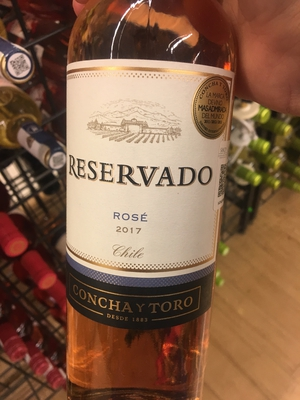reservado rose: (61, 14, 229, 400)
